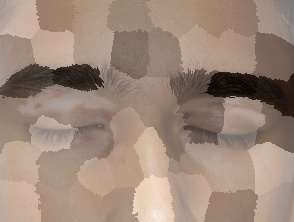vitiligo: (0, 38, 156, 205), (146, 64, 294, 219)
